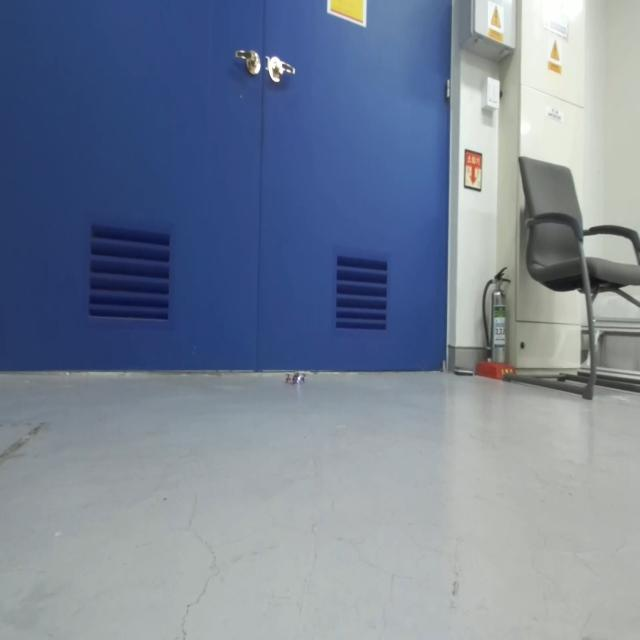crazyflie: (285, 370, 310, 392)
